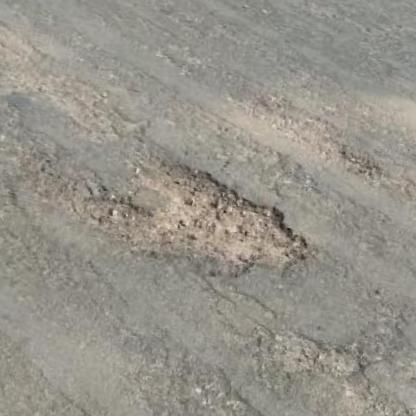pothole: (57, 133, 321, 296)
